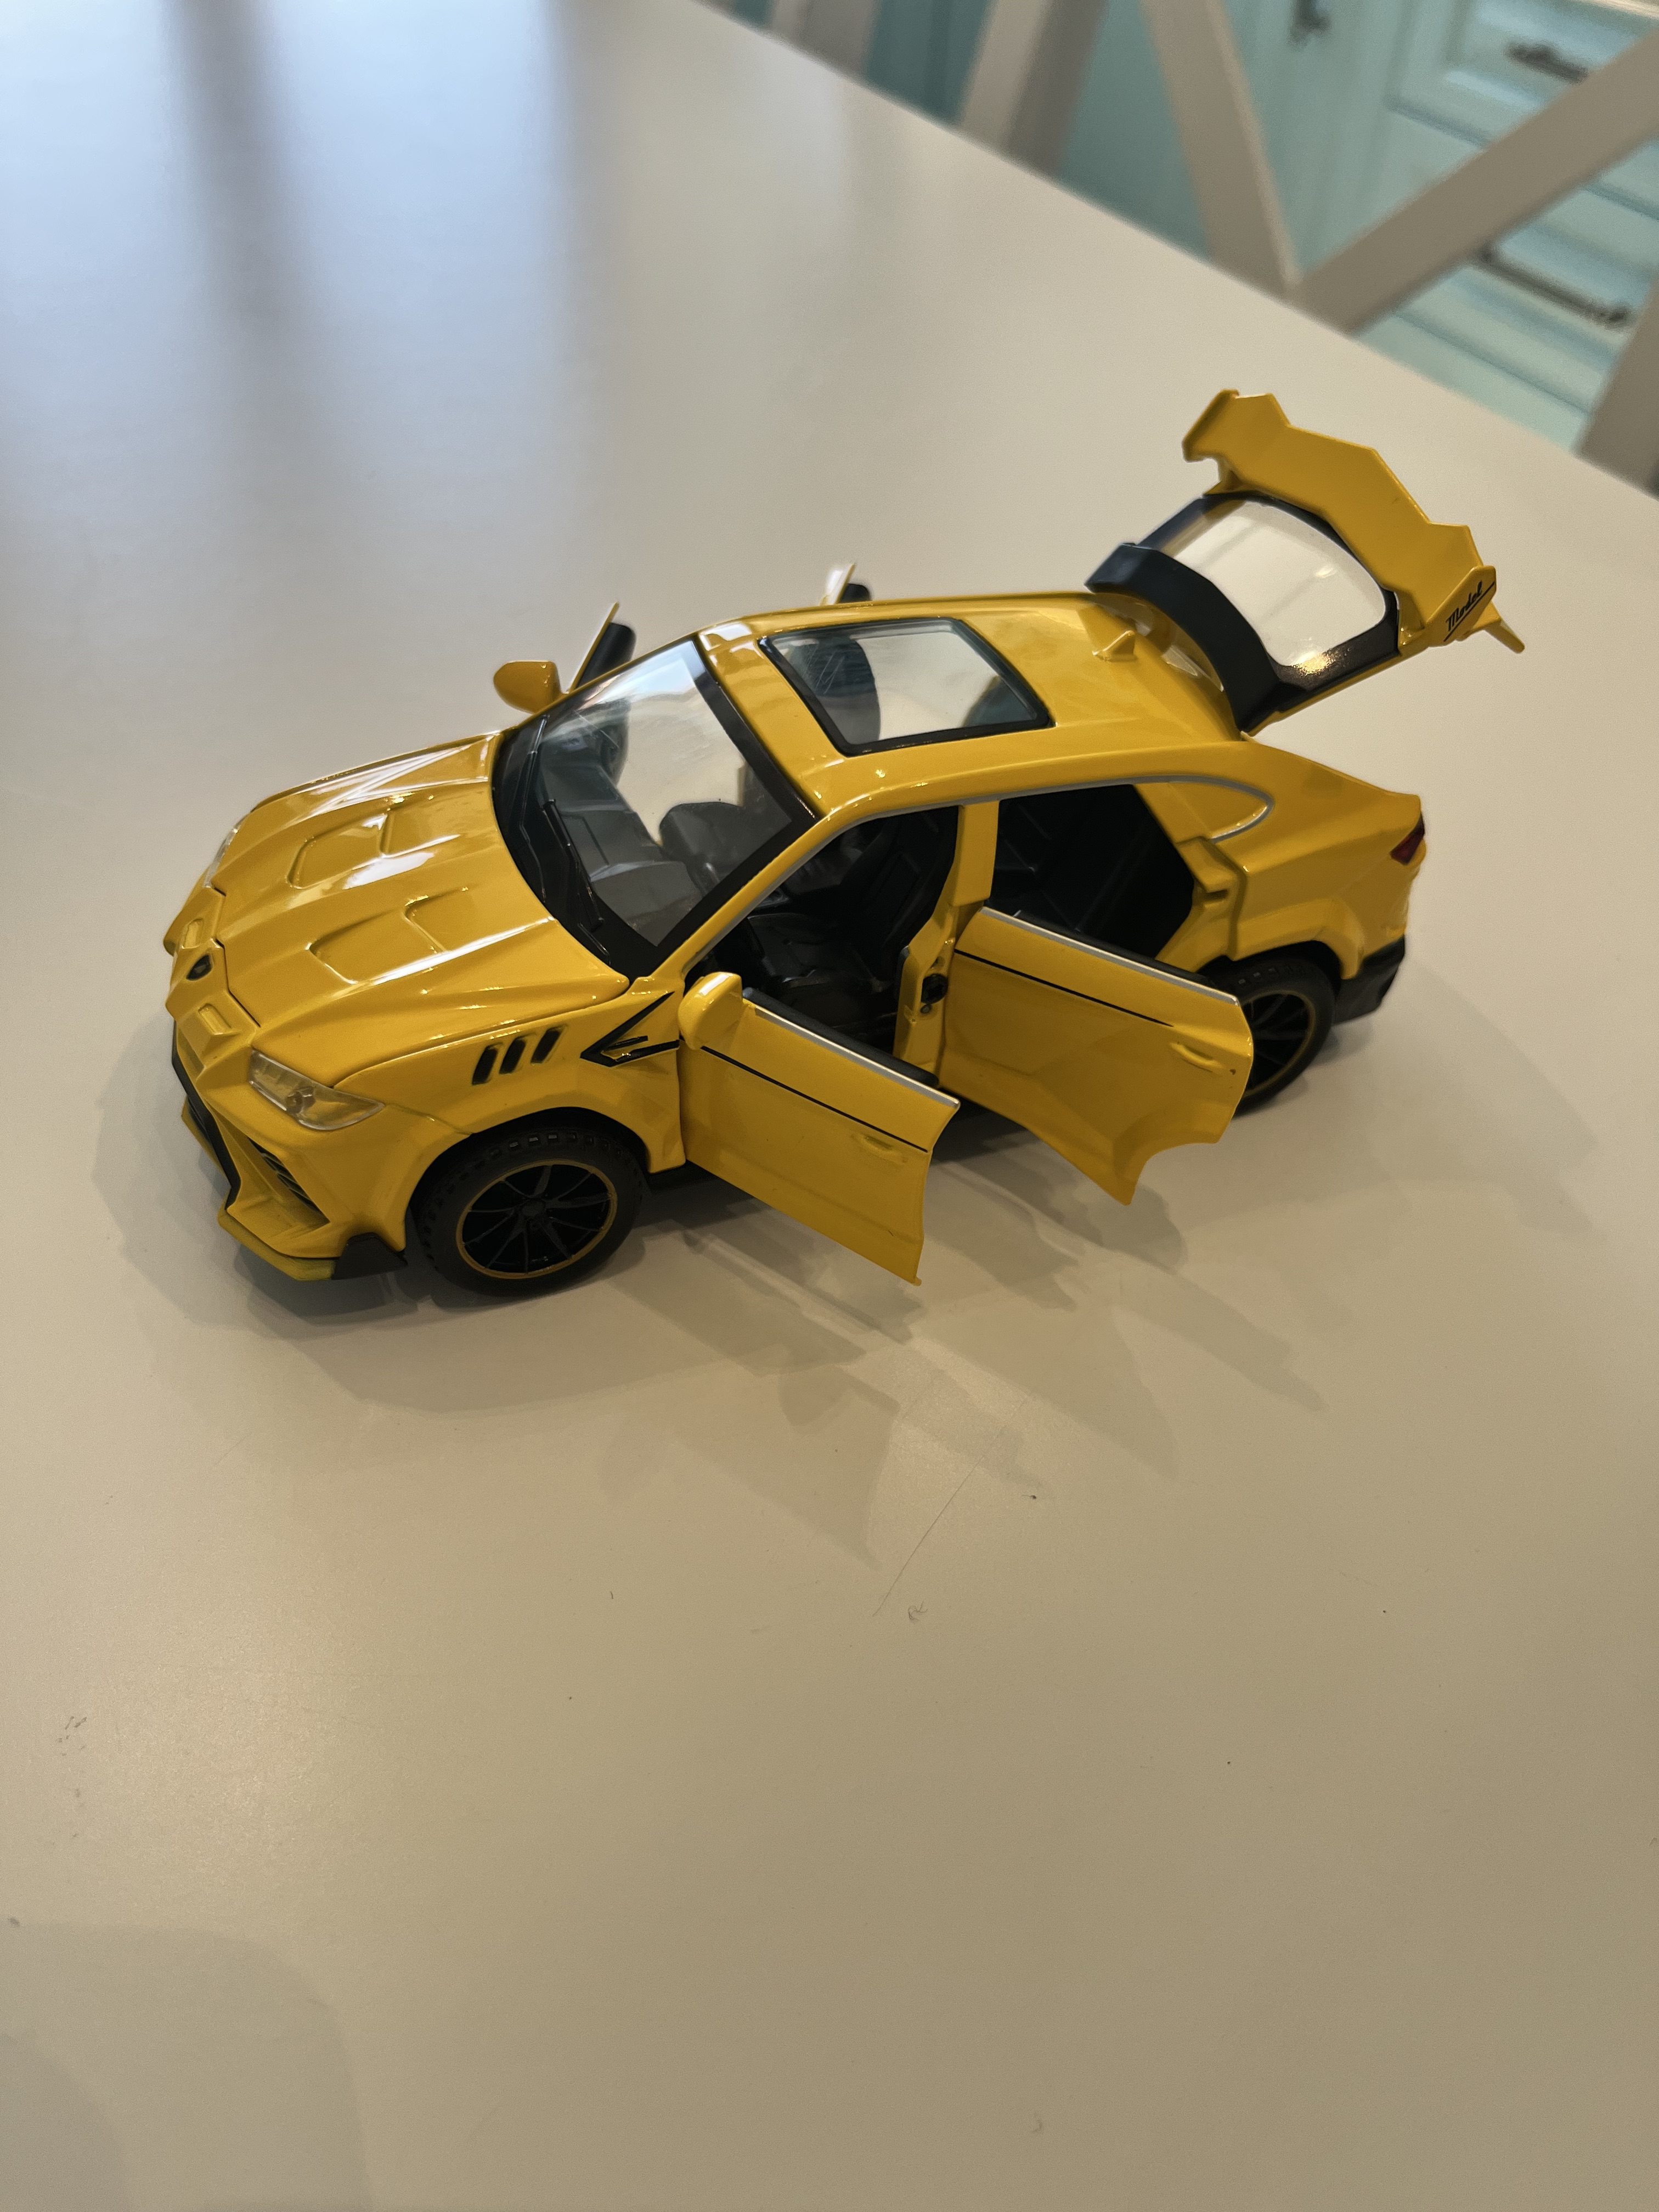lambo: (136, 355, 1549, 1327)
